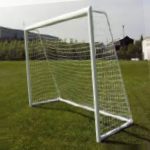goals: (22, 4, 133, 144)
